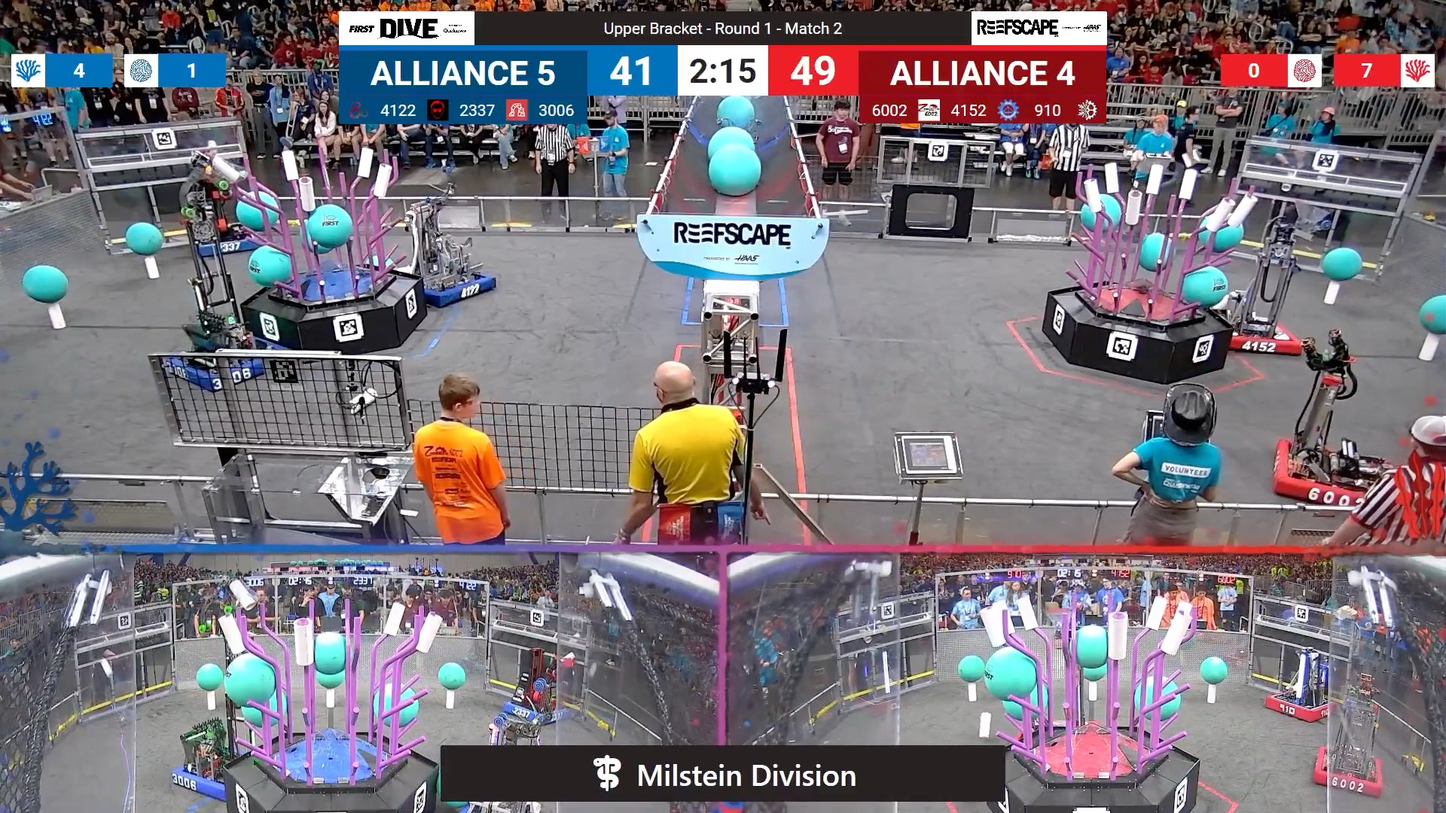bumpers: (1264, 439, 1403, 511), (161, 343, 278, 391), (395, 261, 505, 307), (1307, 741, 1389, 799), (1215, 313, 1313, 359), (166, 751, 245, 799), (1260, 691, 1341, 726), (498, 695, 573, 727), (185, 231, 267, 258)
